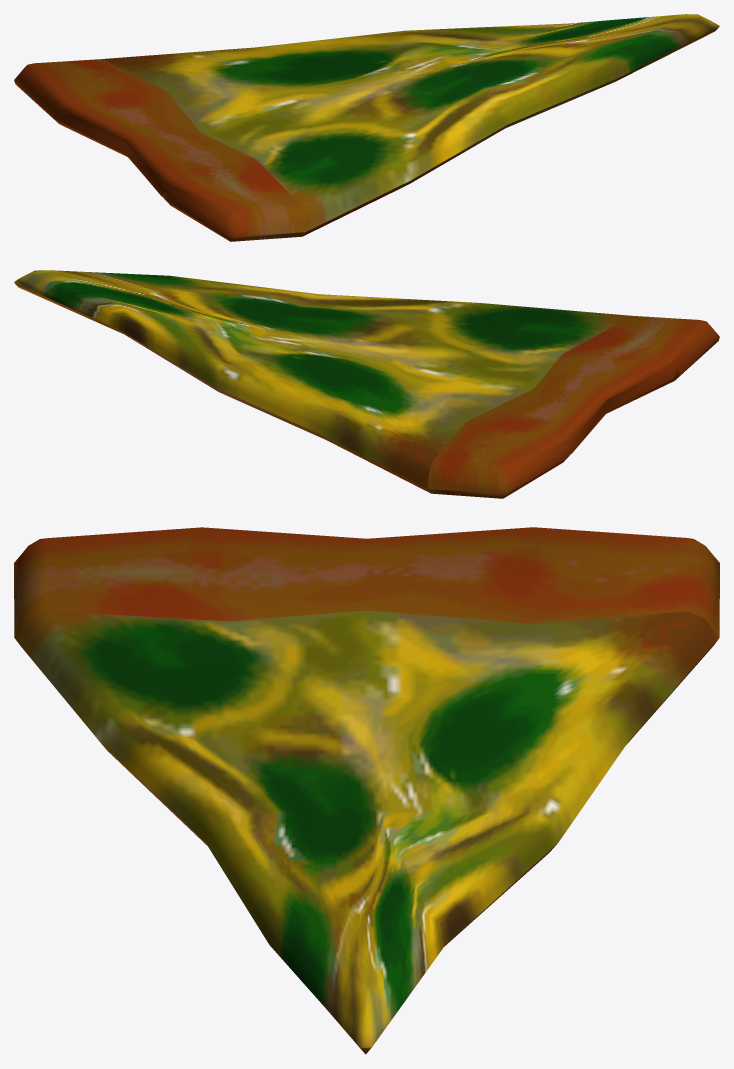
The model's file is PIZZA.glb.
3 renders of one model, top to bottom at view 1: azimuth 30°, elevation 25°; view 2: azimuth 150°, elevation 25°; view 3: azimuth 270°, elevation 25°, orthographic. The views are drawn at different scales.
Visible parts, largest first — view 1: PROP_PIZZA; view 2: PROP_PIZZA; view 3: PROP_PIZZA.
Boxes of the visible parts, bbox=[...] form: PROP_PIZZA: bbox=[14, 14, 719, 241]; PROP_PIZZA: bbox=[14, 270, 719, 498]; PROP_PIZZA: bbox=[14, 527, 719, 1054].
Bounding box in the file's own units: 0.5209 × 0.0304 × 0.3249.
1 material, 1 textured.
